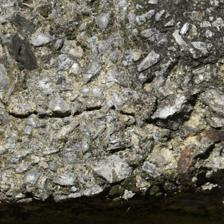Crack: (5, 101, 182, 134)
